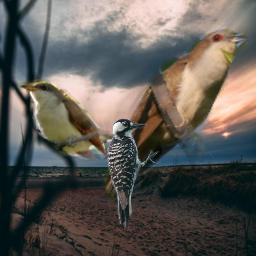Cuckoo: (98, 29, 248, 205), (16, 74, 120, 160)
Woodpecker: (105, 118, 161, 230)
